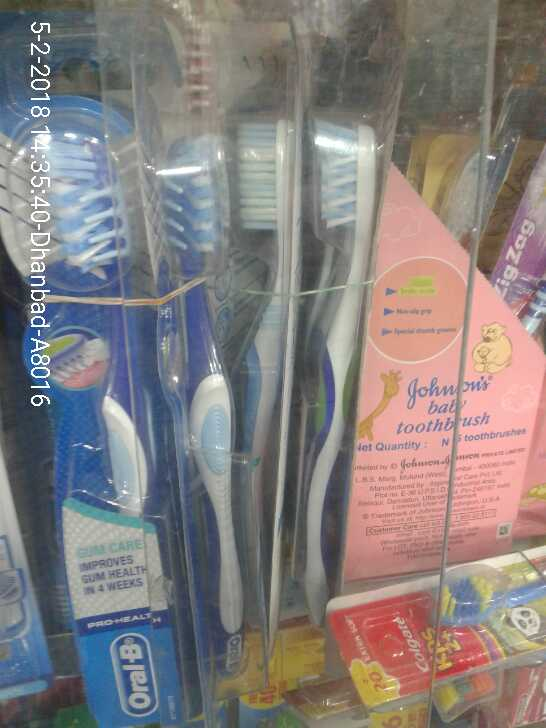oralb: (38, 107, 158, 718), (302, 100, 384, 650), (162, 125, 244, 666), (240, 105, 296, 680)
